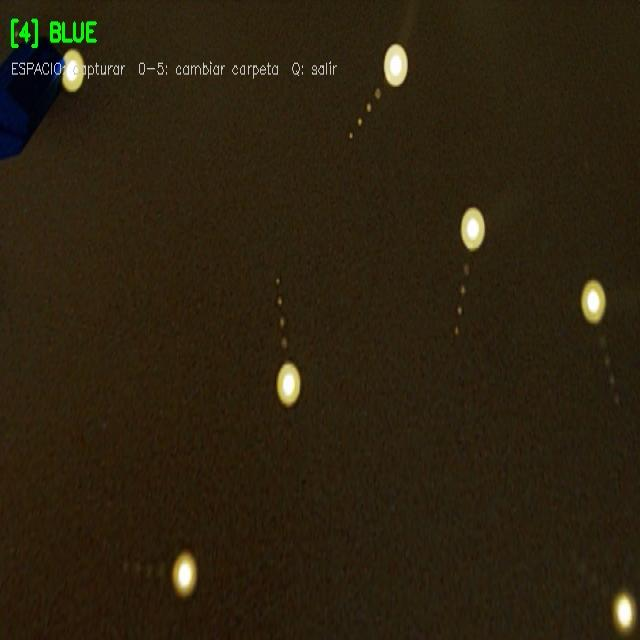blue: (0, 39, 63, 160)
